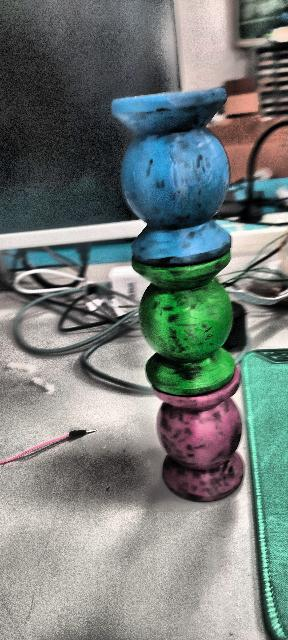blue: (112, 87, 232, 266)
green: (132, 268, 244, 390)
red: (150, 388, 264, 514)
